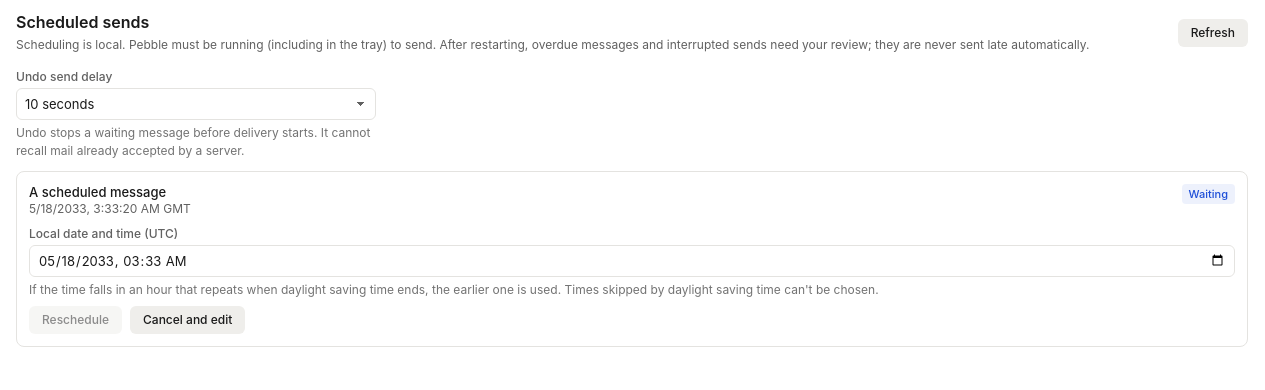
Test: ScheduledSendsView with real locales › reports a stale revision race instead of claiming cancellation succeeded
Click the button "Cancel and edit": [188, 320] box [130,306,245,334]
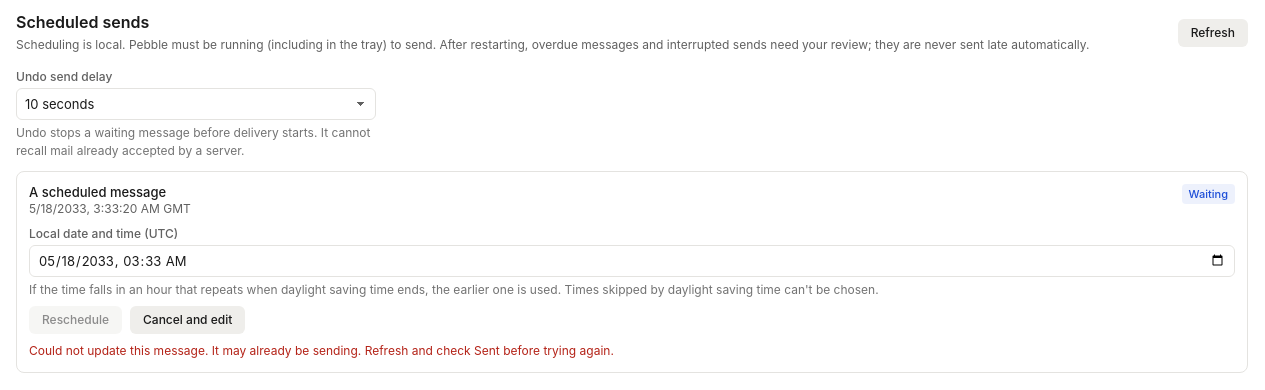
Expected: the 2nd message is shown, [29,343,614,358]
